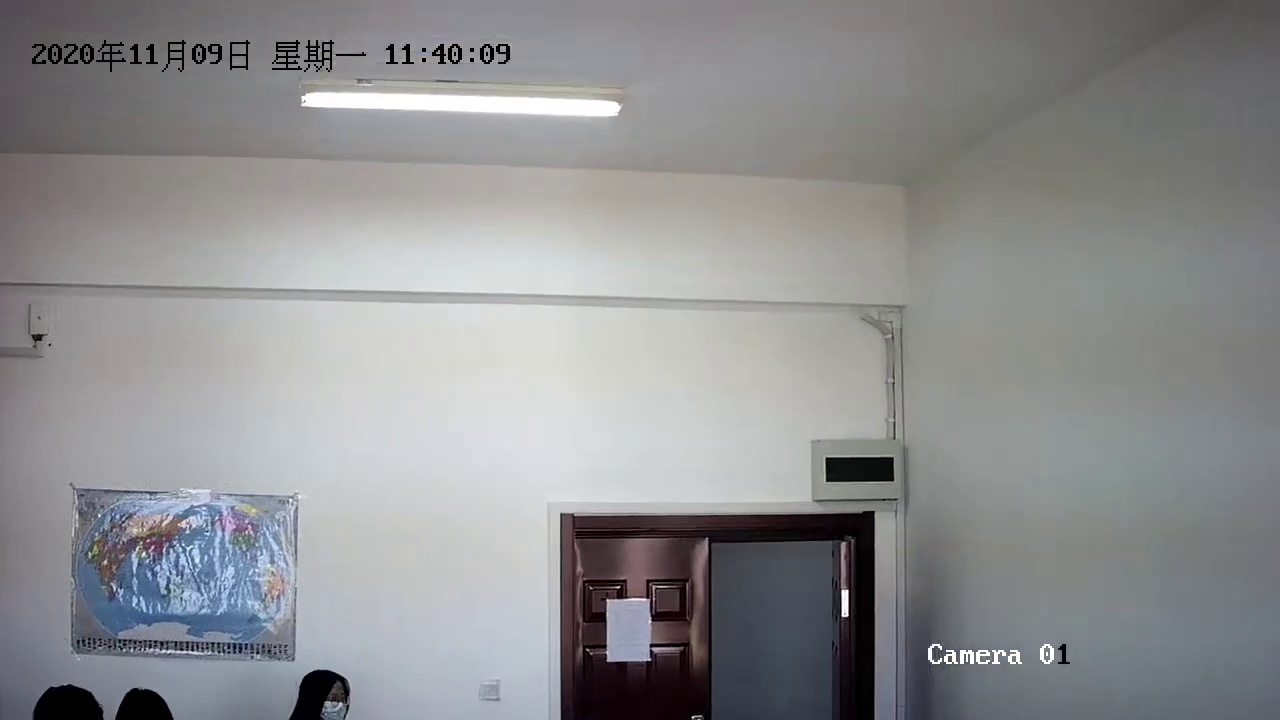mask: (288, 667, 357, 720)
